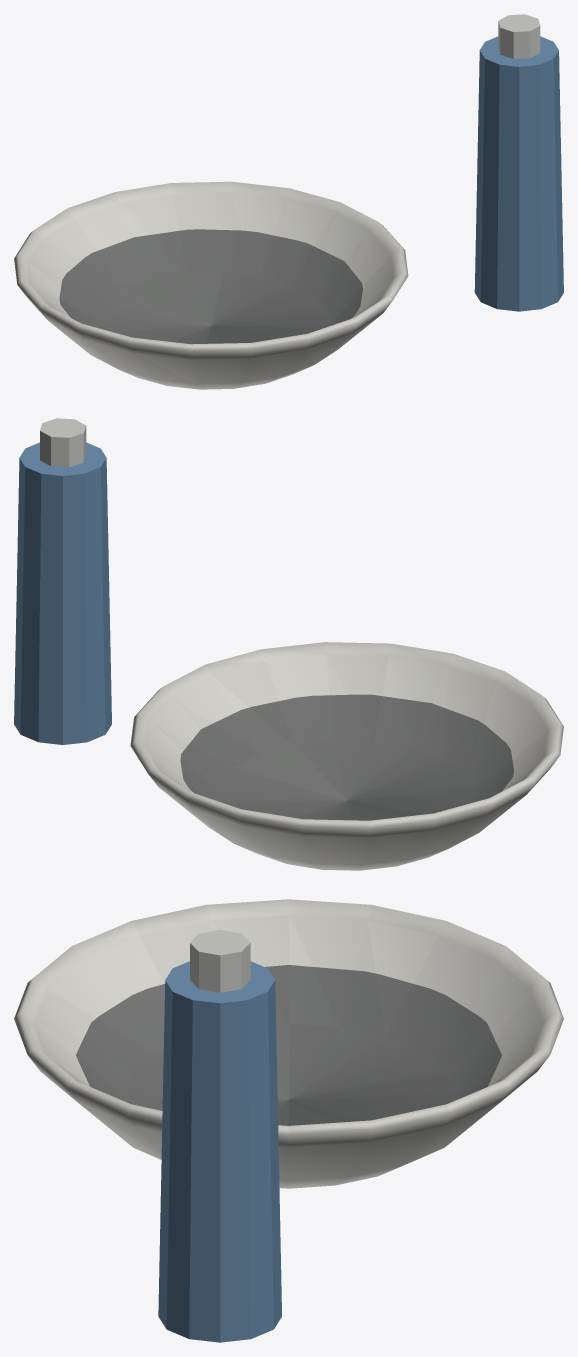
The model's file is camp_washbasin_a.glb.
3 renders of one model, top to bottom at view 1: azimuth 30°, elevation 25°; view 2: azimuth 150°, elevation 25°; view 3: azimuth 270°, elevation 25°, orthographic. The views are drawn at different scales.
Parts seen in each view (by area): view 1: body; view 2: body; view 3: body.
Boxes of the visible parts, box(x1,y1,x2,y2) form: body: box(14, 14, 563, 389); body: box(14, 418, 563, 870); body: box(14, 899, 563, 1342).
Bounding box in the file's own units: 0.575 × 0.3 × 0.4.
